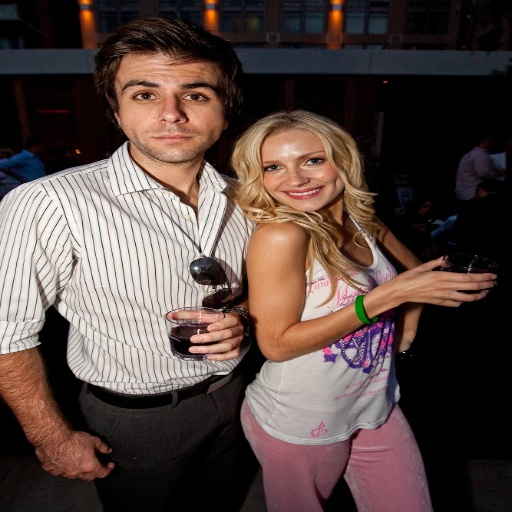hand: (370, 263, 495, 308), (162, 308, 247, 363), (36, 430, 118, 483)
